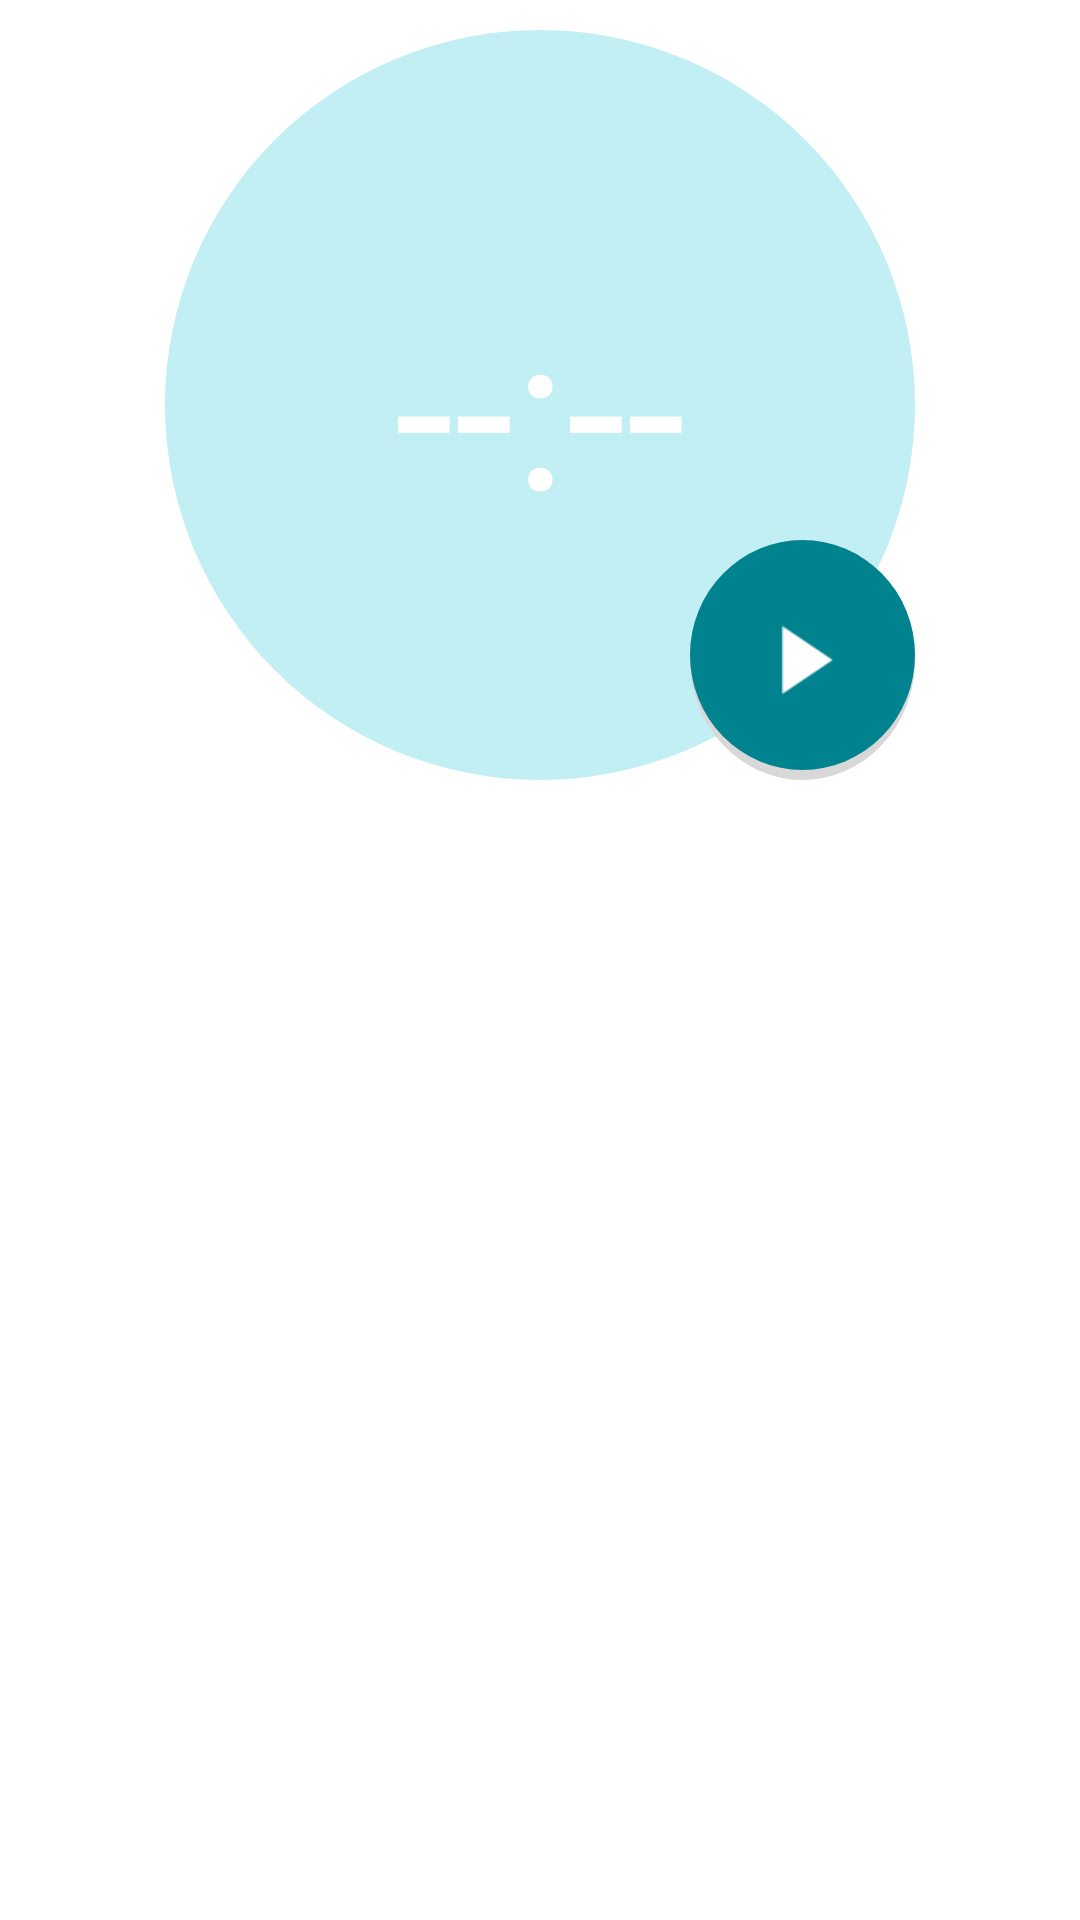

Screen size 1080w x 1920h. Icon name, then its center in pixels as (x,y):
play: (802,660)
